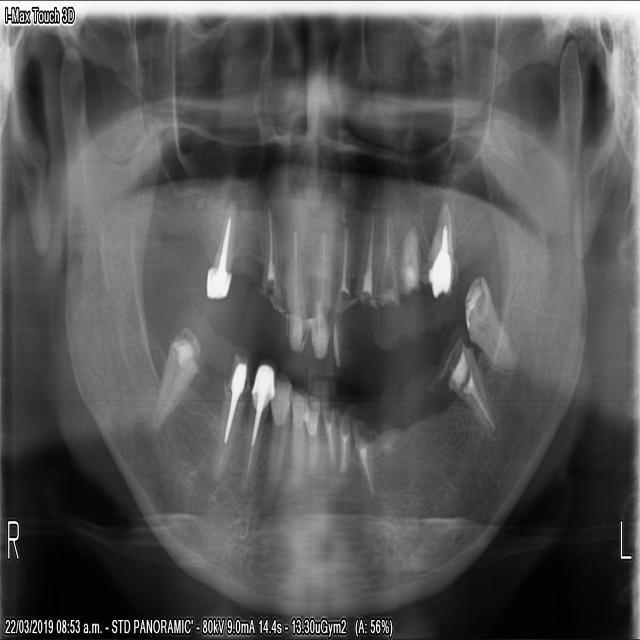LCD: (337, 409, 350, 475)
LID: (320, 405, 338, 470), (306, 388, 318, 476)
LIU: (308, 227, 329, 361)
LMD: (435, 315, 497, 436), (462, 274, 519, 370)
RCD: (237, 352, 277, 496)
RID: (261, 365, 292, 510), (289, 381, 306, 489)
RIU: (284, 224, 306, 355)
RMD: (148, 323, 202, 435)
RPMD: (208, 340, 253, 484)
RPMU: (203, 197, 237, 300)
